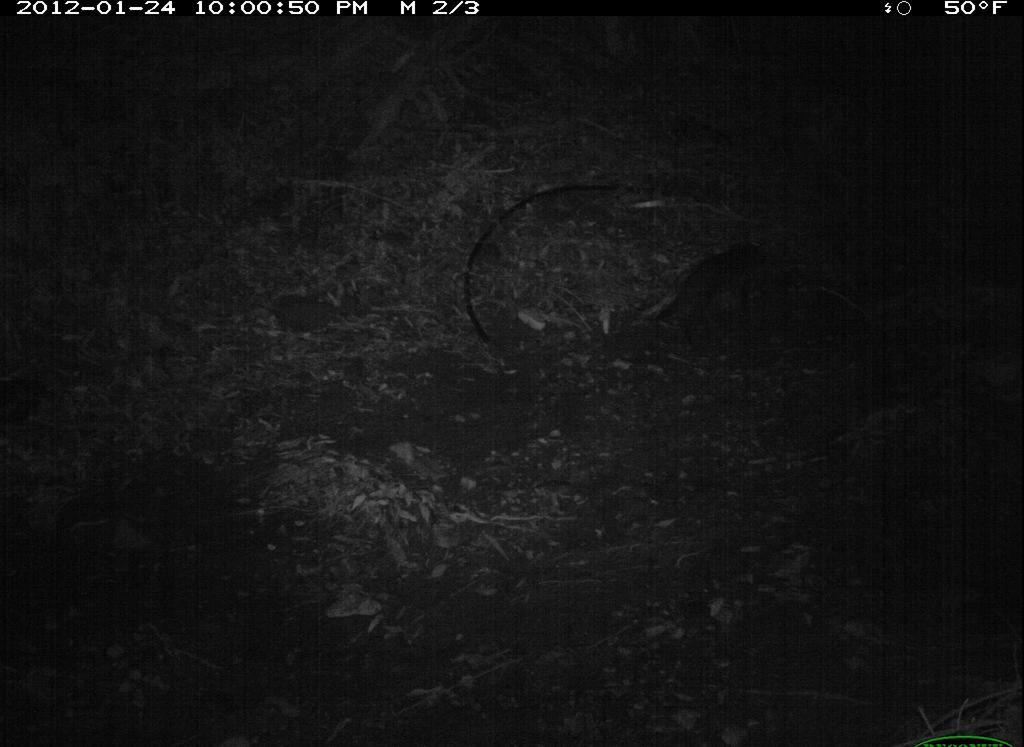opossum: (646, 235, 793, 347)
